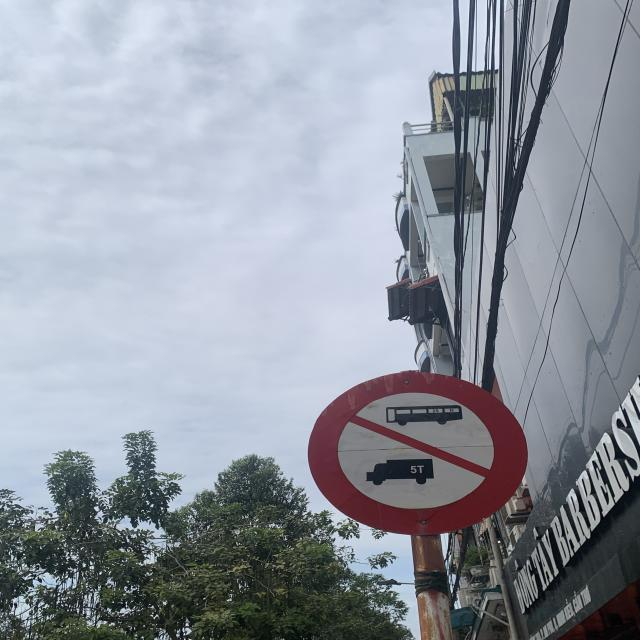Cam_XeTai_XeKhach: (306, 372, 529, 535)
